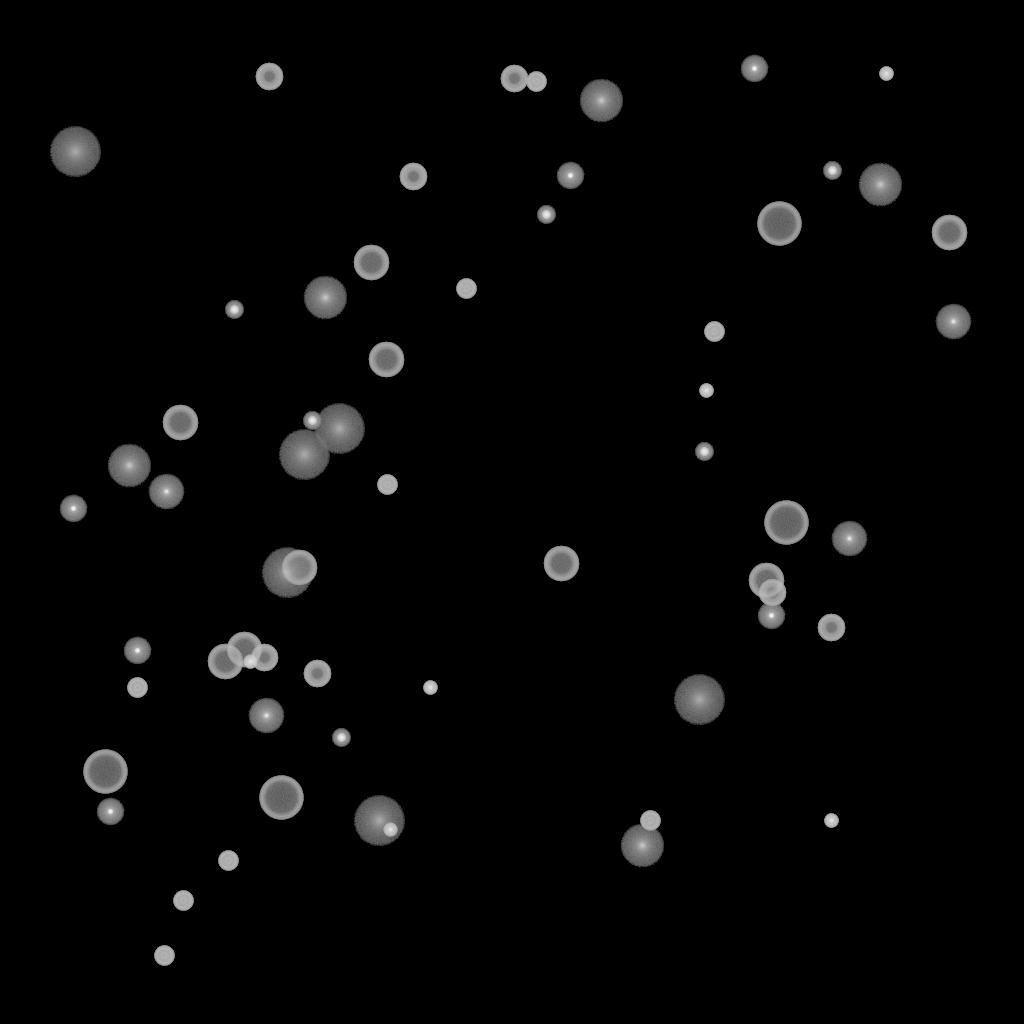depth:-10: (96, 798, 124, 826), (740, 55, 768, 83), (123, 637, 151, 665), (757, 602, 785, 630), (556, 162, 584, 190), (59, 495, 87, 523)
depth:-20: (332, 729, 350, 747), (303, 412, 321, 430), (225, 301, 243, 319), (695, 443, 713, 461), (823, 162, 841, 180), (537, 206, 555, 224)
depth:-30: (383, 823, 397, 837), (243, 655, 257, 669), (699, 384, 713, 398), (879, 67, 893, 81), (423, 681, 437, 695), (824, 814, 838, 828)
depth:-40: (377, 475, 397, 495), (127, 678, 147, 698), (704, 322, 724, 342), (640, 811, 660, 831), (218, 851, 238, 871), (526, 72, 546, 92), (456, 279, 476, 299), (154, 946, 174, 966), (173, 891, 193, 911)
depth:-50: (250, 644, 278, 672), (399, 163, 427, 191), (303, 660, 331, 688), (255, 63, 283, 91), (817, 614, 845, 642), (758, 579, 786, 607), (500, 65, 528, 93)
depth:-60: (353, 245, 389, 281), (207, 644, 243, 680), (931, 215, 967, 251), (281, 550, 317, 586), (368, 342, 404, 378), (748, 563, 784, 599), (226, 632, 262, 668), (543, 546, 579, 582), (162, 405, 198, 441)
depth:-70: (83, 750, 127, 794), (757, 202, 801, 246), (259, 776, 303, 820), (764, 501, 808, 545)
depth:0: (148, 474, 184, 510), (831, 521, 867, 557), (935, 304, 971, 340), (248, 698, 284, 734)
depth:10: (303, 276, 347, 320), (107, 444, 151, 488), (579, 79, 623, 123), (620, 824, 664, 868), (858, 163, 902, 207)
depth:20: (353, 796, 405, 846), (278, 430, 330, 480), (673, 675, 725, 725), (261, 548, 313, 598), (49, 127, 101, 177), (313, 404, 365, 454)
